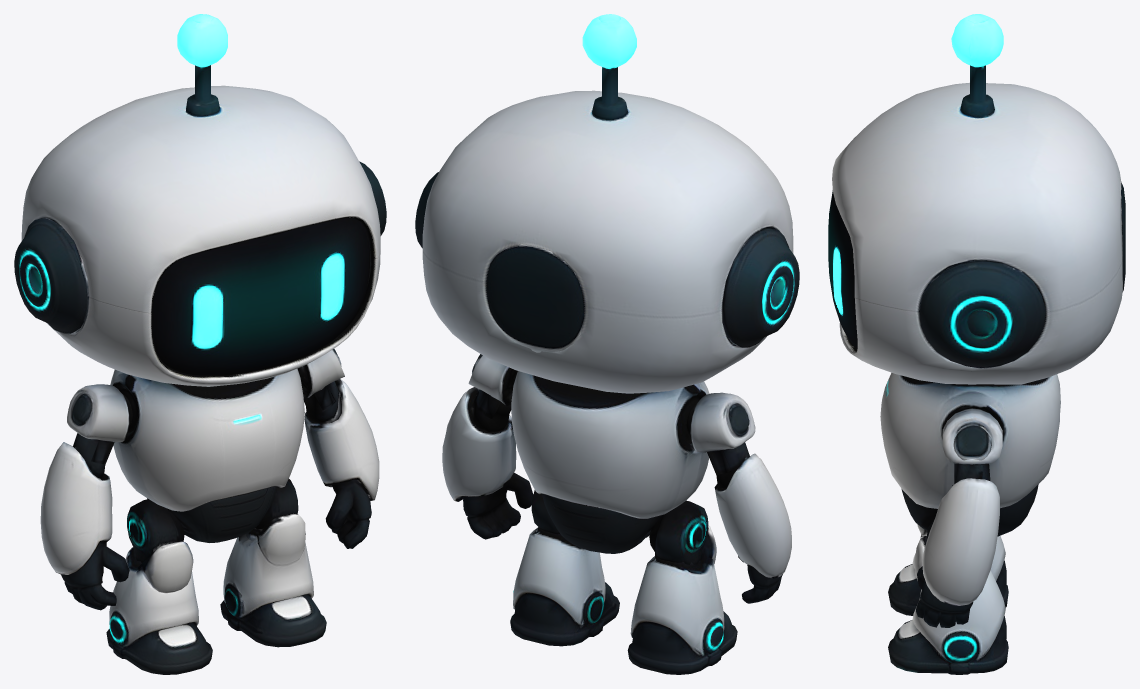
File: robot.glb
3 views of the same model, side by side, from view 1: azimuth 30°, elevation 25°; view 2: azimuth 150°, elevation 25°; view 3: azimuth 270°, elevation 25° (orthographic). The views are drawn at different scales.
Visible parts, largest first — view 1: head, part_2, part_8, part_7, part_13, part_14, part_5, part_9, part_11, part_18, part_16, part_19 (+3 smaller); view 2: head, part_2, part_7, part_8, part_13, part_14, part_5, part_9, part_16, part_11, part_19, part_15 (+2 smaller); view 3: head, part_2, part_14, part_8, part_11, part_7, part_19, part_5.
Part boxes in pixels (left/top/right/bottom): head: left=14, top=14, right=386, bottom=386; part_2: left=110, top=368, right=304, bottom=511; part_8: left=220, top=512, right=326, bottom=647; part_7: left=106, top=547, right=212, bottom=674; part_13: left=40, top=442, right=112, bottom=574; part_14: left=304, top=378, right=379, bottom=500; part_5: left=147, top=486, right=277, bottom=542; part_9: left=67, top=384, right=132, bottom=442; part_11: left=297, top=349, right=344, bottom=423; part_18: left=61, top=542, right=129, bottom=610; part_16: left=127, top=499, right=184, bottom=562; part_19: left=325, top=479, right=371, bottom=548; head: left=415, top=14, right=799, bottom=393; part_2: left=511, top=371, right=709, bottom=518; part_7: left=627, top=556, right=737, bottom=674; part_8: left=510, top=527, right=619, bottom=646; part_13: left=714, top=453, right=791, bottom=578; part_14: left=442, top=387, right=516, bottom=501; part_5: left=542, top=494, right=664, bottom=553; part_9: left=686, top=392, right=755, bottom=452; part_16: left=649, top=500, right=708, bottom=564; part_11: left=468, top=354, right=517, bottom=431; part_19: left=463, top=472, right=533, bottom=539; part_15: left=707, top=442, right=749, bottom=488; head: left=828, top=14, right=1125, bottom=384; part_2: left=880, top=372, right=1060, bottom=508; part_14: left=922, top=478, right=999, bottom=605; part_8: left=888, top=536, right=1008, bottom=674; part_11: left=942, top=408, right=1002, bottom=485; part_7: left=888, top=534, right=1008, bottom=615; part_19: left=916, top=566, right=973, bottom=627; part_5: left=901, top=484, right=1038, bottom=536.
Size of the model in its own units: 0.6483 by 1.13 by 0.4969.
Materials: 1 (1 with a texture image).
